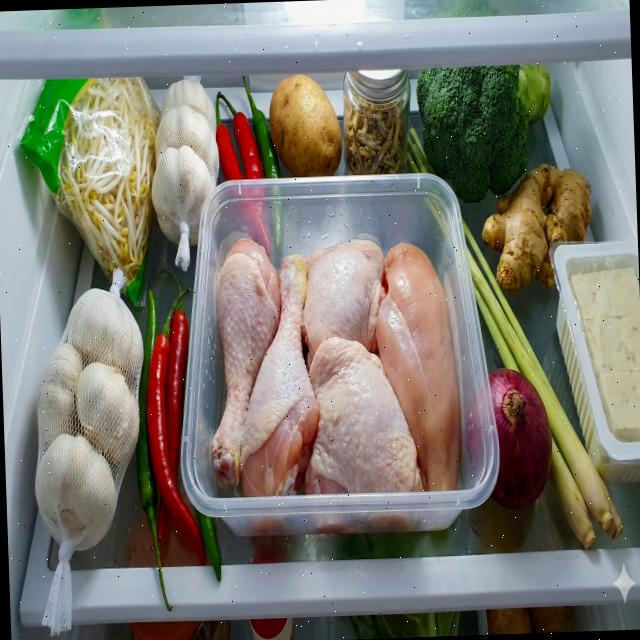anchovies: (342, 104, 410, 176)
bean_sprouts: (51, 73, 168, 290)
brocolli: (414, 64, 554, 205)
chicken: (204, 228, 462, 500)
chili: (130, 264, 222, 612), (214, 72, 285, 257)
garlic: (27, 286, 150, 553), (148, 79, 222, 248)
ginger: (479, 160, 596, 298)
lemongrass: (406, 118, 624, 556)
onion: (465, 365, 554, 511)
potato: (268, 70, 342, 178)
tofu: (570, 263, 640, 443)
